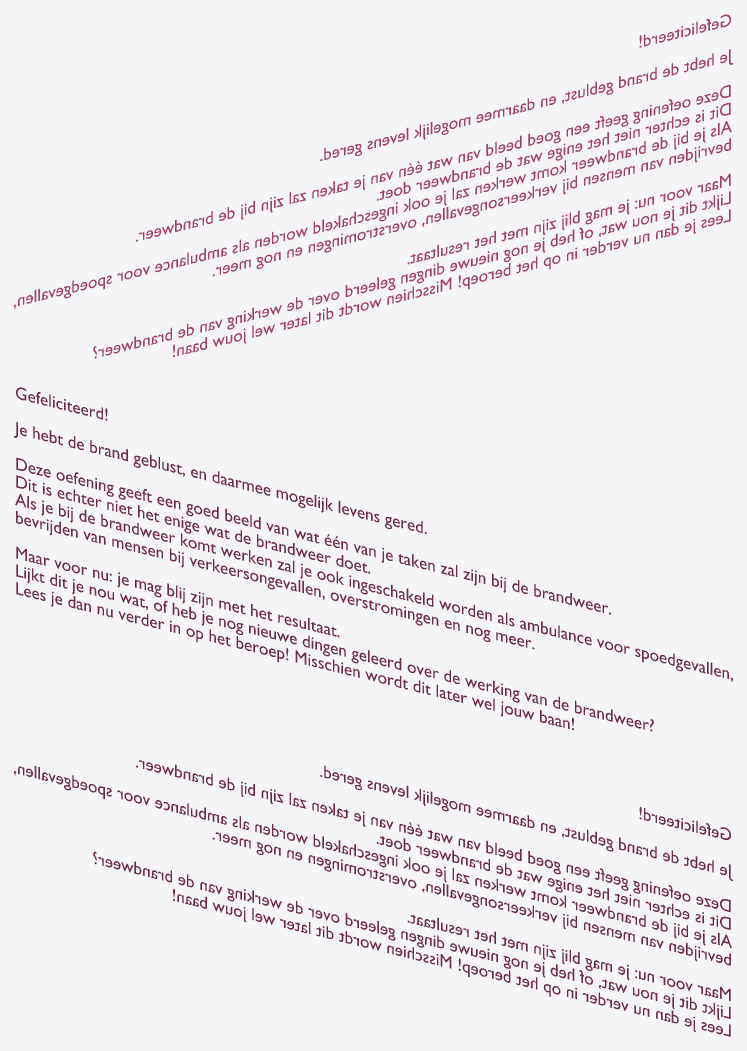
Rendered from eindetekst.glb.
3 views of the same model, one above another, from view 1: azimuth 30°, elevation 25°; view 2: azimuth 150°, elevation 25°; view 3: azimuth 330°, elevation 25° (orthographic).
Parts seen in each view (by area): view 1: Text; view 2: Text; view 3: Text.
Boxes of the visible parts, x1,y1,x2,y2 form: Text: (14, 14, 732, 358); Text: (14, 387, 732, 731); Text: (14, 760, 732, 1036).
Bounding box in the file's own units: 13.72 × 3.87 × 6e-07.
